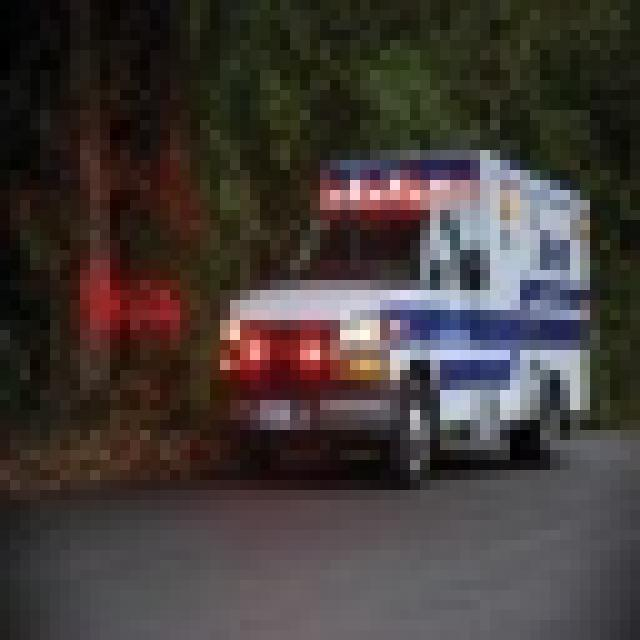Ambulance: (210, 140, 590, 480)
